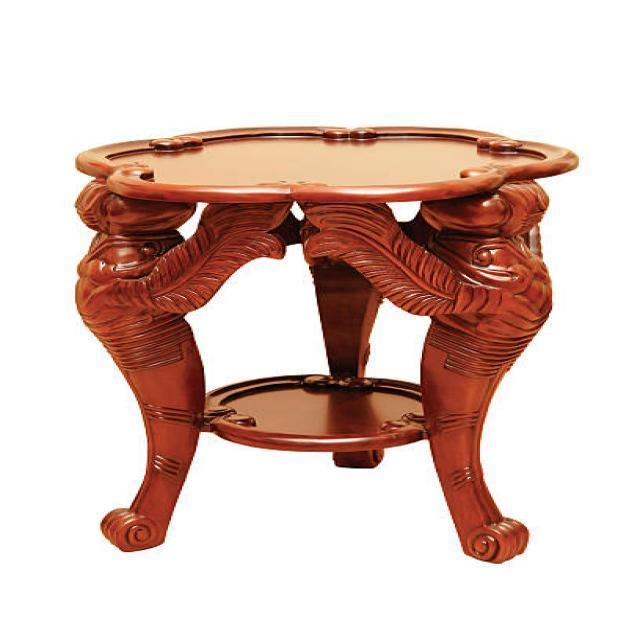table: (71, 125, 578, 562)
